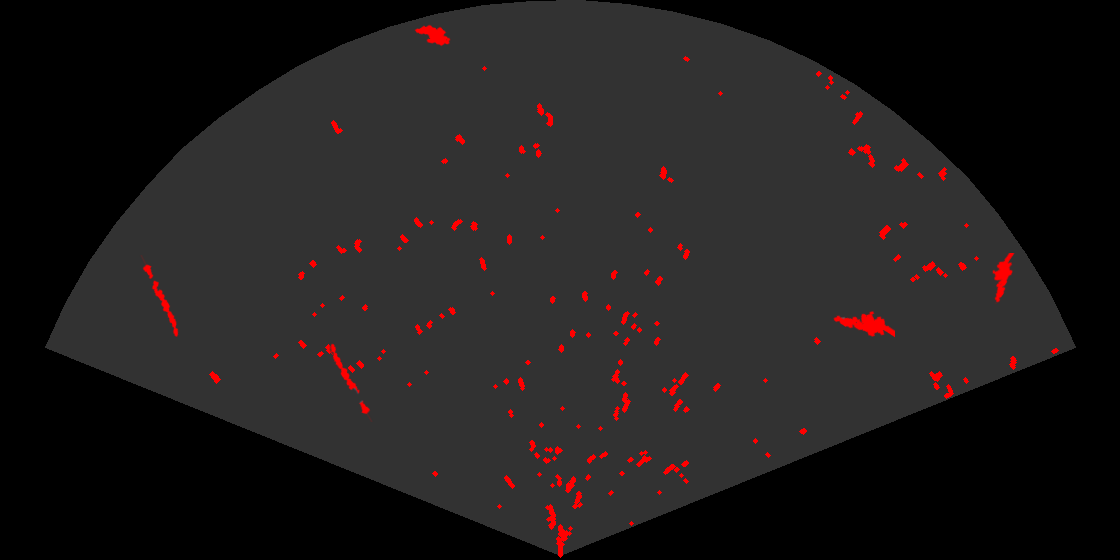AUV: (413, 23, 452, 48)
chain: (329, 342, 374, 422), (139, 255, 180, 339)
frogman: (832, 310, 895, 339), (991, 253, 1016, 304)
